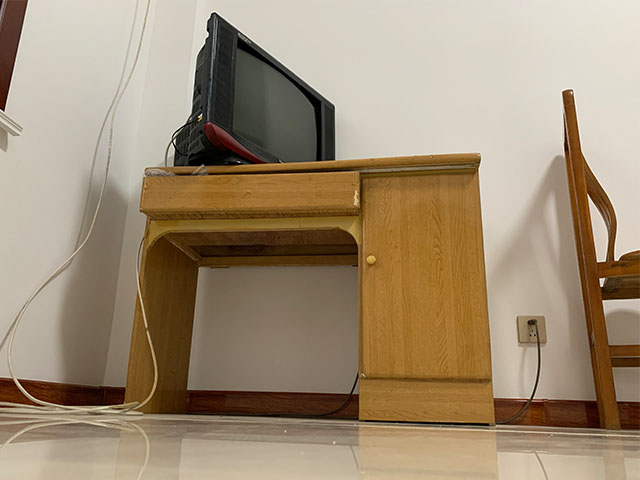stool: (560, 86, 640, 432)
table: (122, 150, 496, 427)
wire: (1, 1, 160, 417), (184, 369, 362, 417), (493, 318, 542, 426)
